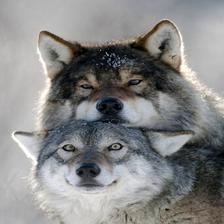WOLF: (13, 125, 224, 224), (35, 19, 200, 123)
